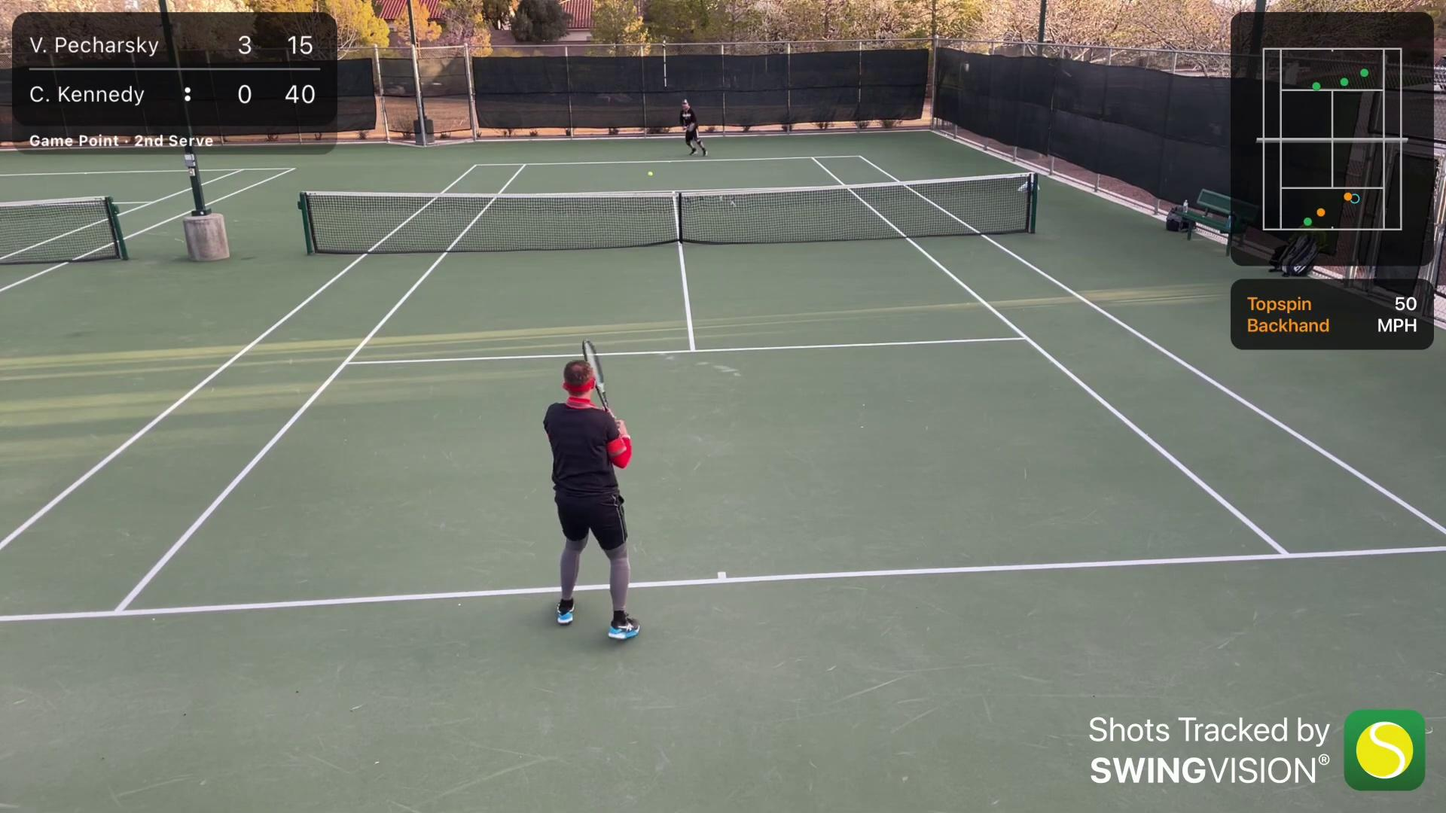ball: (647, 170, 654, 177)
